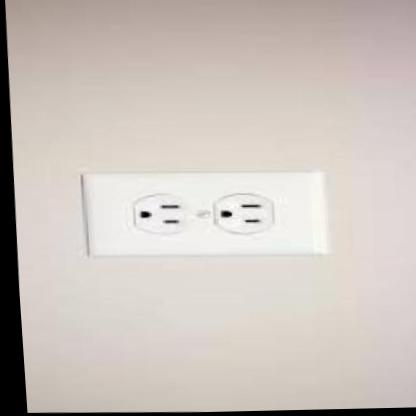OUTLET: (80, 166, 330, 259)
